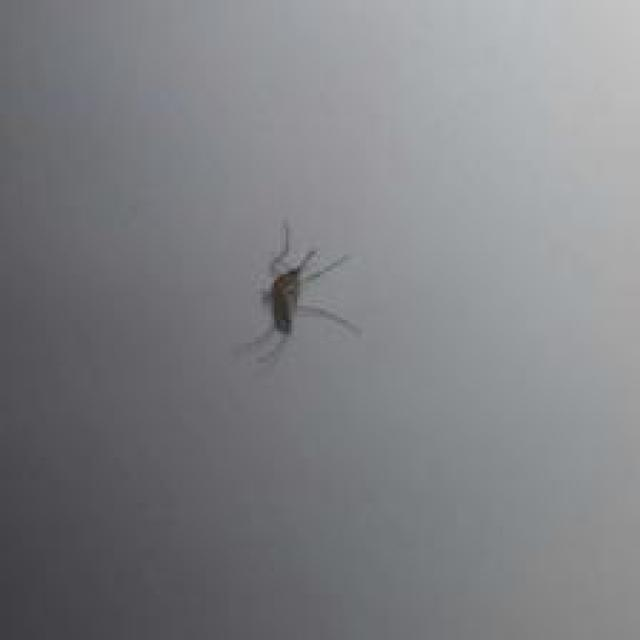Culex: (233, 219, 361, 367)
